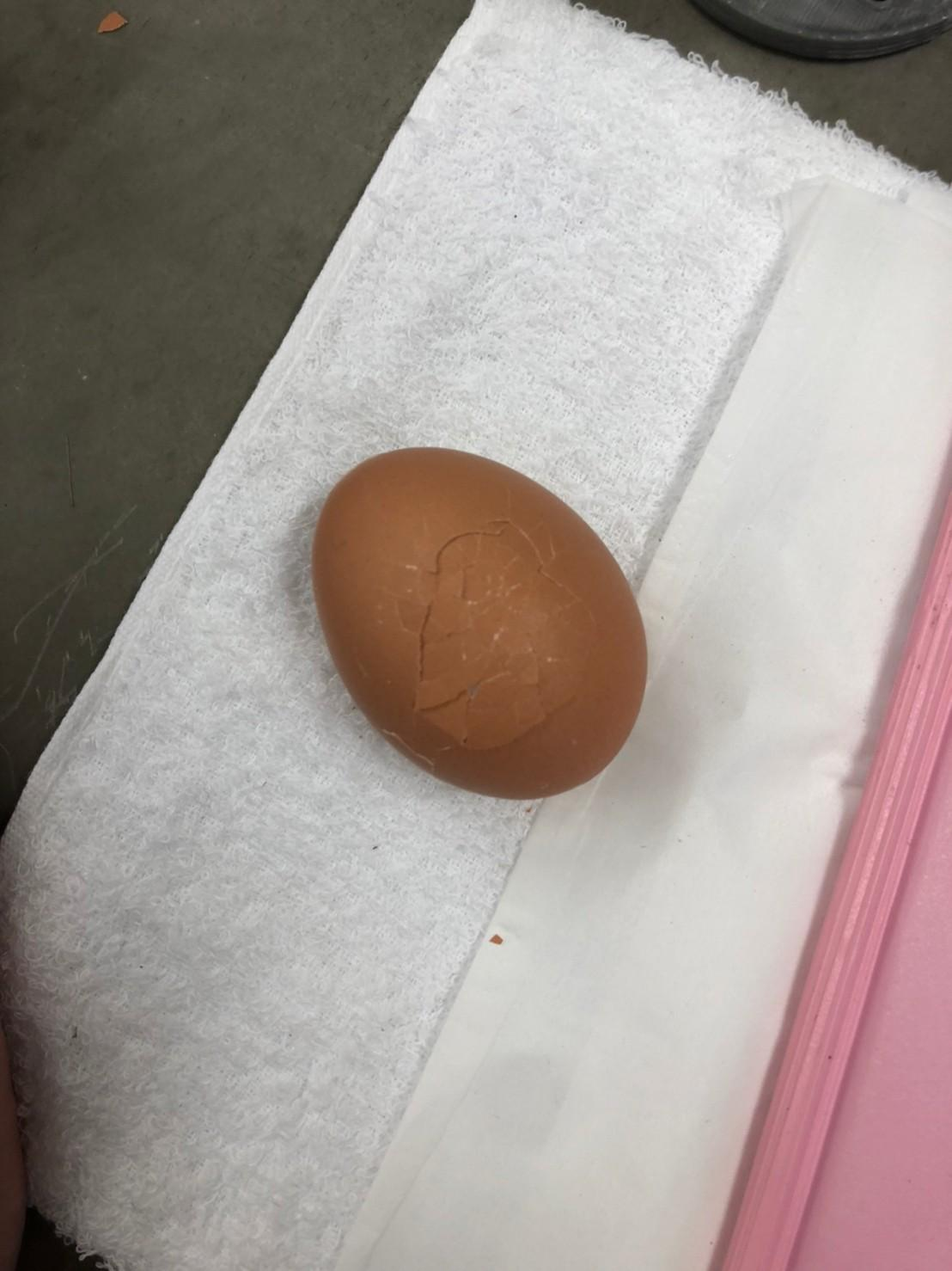egg: (305, 433, 658, 806)
